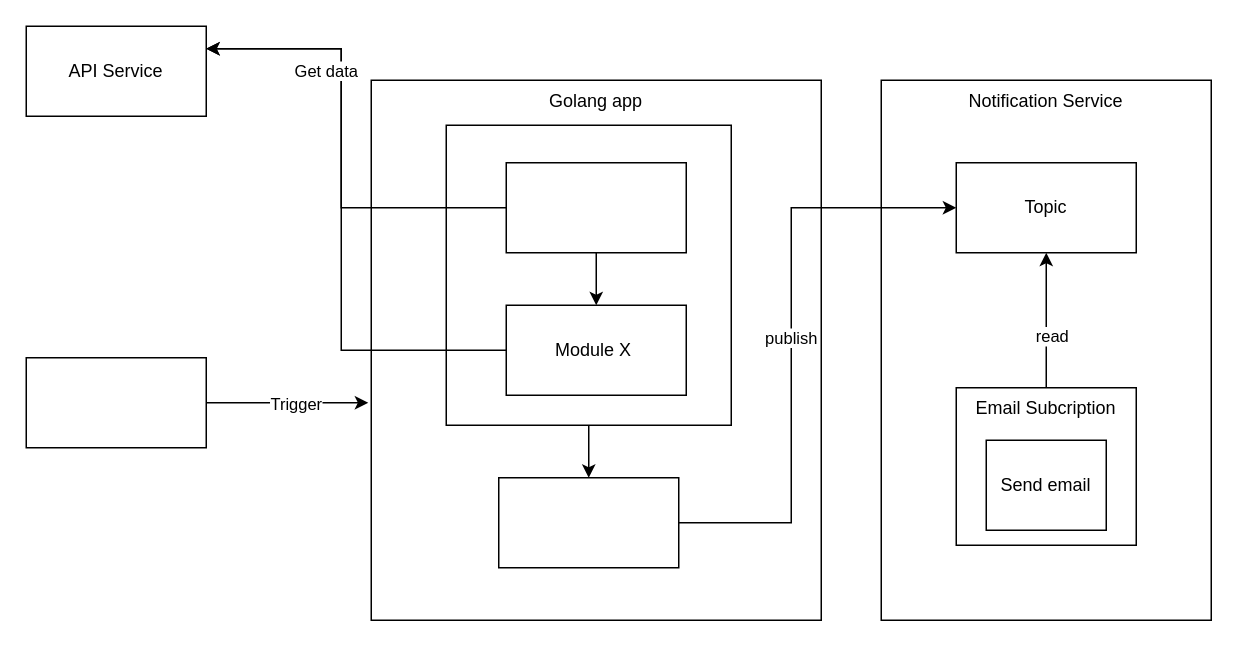
The diagram is 1238 pixels wide and 647 high, and some of its shapes have lost their labels. The centre of each missing label's shape, as x and y in pixels:
"Collect alarms" belongs at point (588, 522).
"CRON" belongs at point (115, 402).
"Module 1(poll time)" belongs at point (595, 207).
